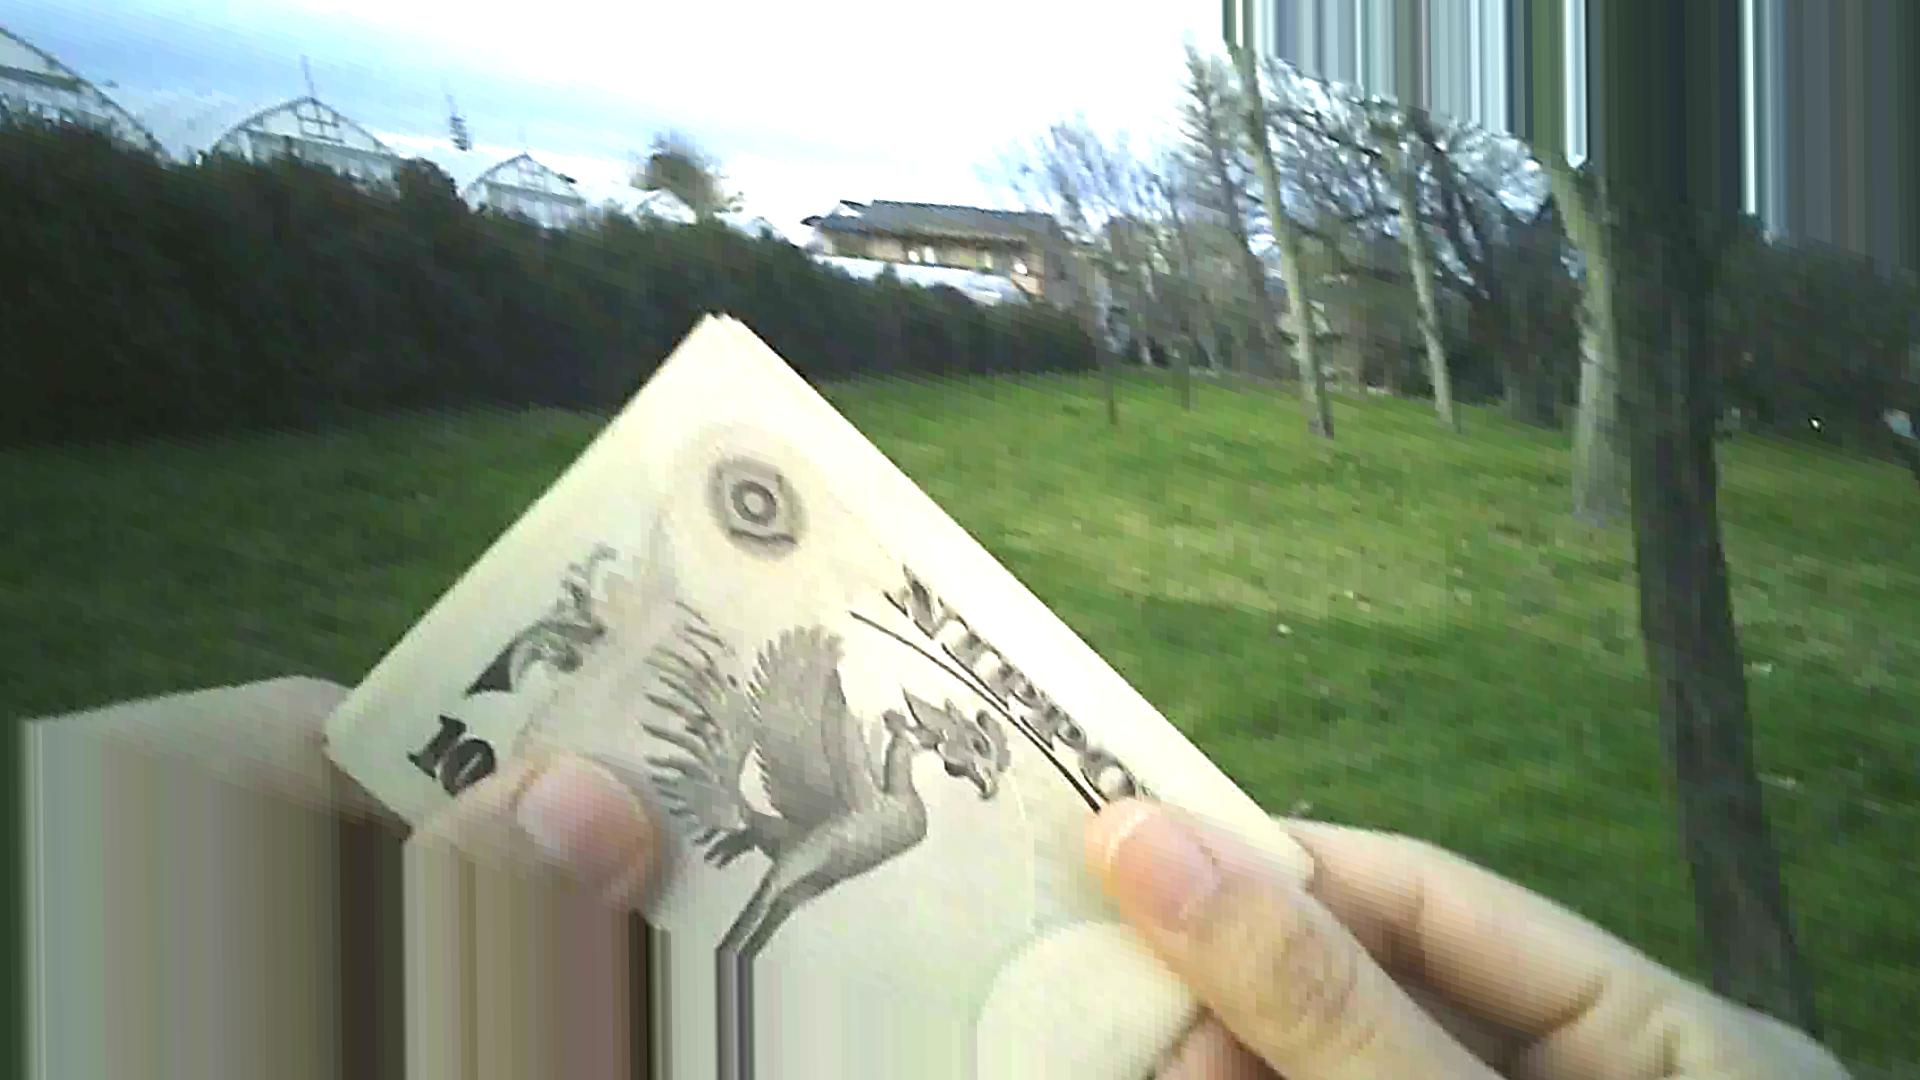10,000 Yen: (309, 294, 1291, 1040)
